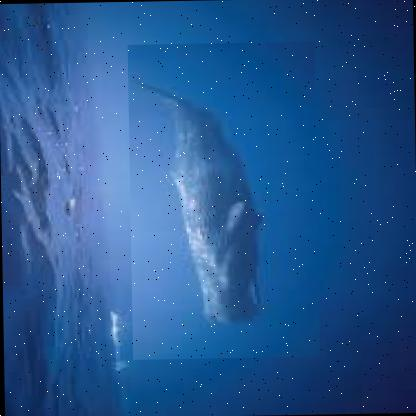sperm_whale: (127, 41, 320, 360)
